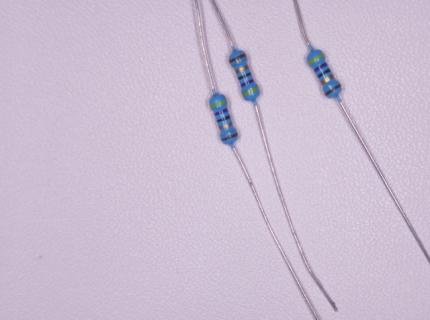Black band: (317, 68, 331, 78), (238, 72, 252, 81), (217, 115, 231, 123)
Brown band: (324, 84, 341, 96), (220, 132, 239, 142), (229, 54, 246, 64)
Gold band: (320, 74, 334, 85), (235, 65, 249, 74), (219, 122, 233, 130)
Violet band: (314, 63, 327, 73), (215, 108, 228, 116), (241, 79, 254, 87)
Yellow band: (308, 54, 324, 66), (243, 86, 259, 96), (210, 99, 227, 108)
